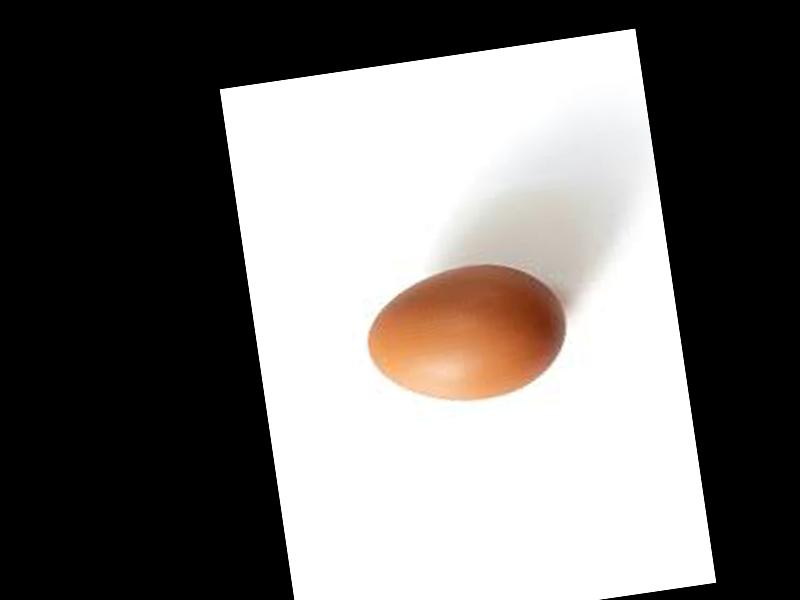Eggs: (357, 254, 573, 412)
